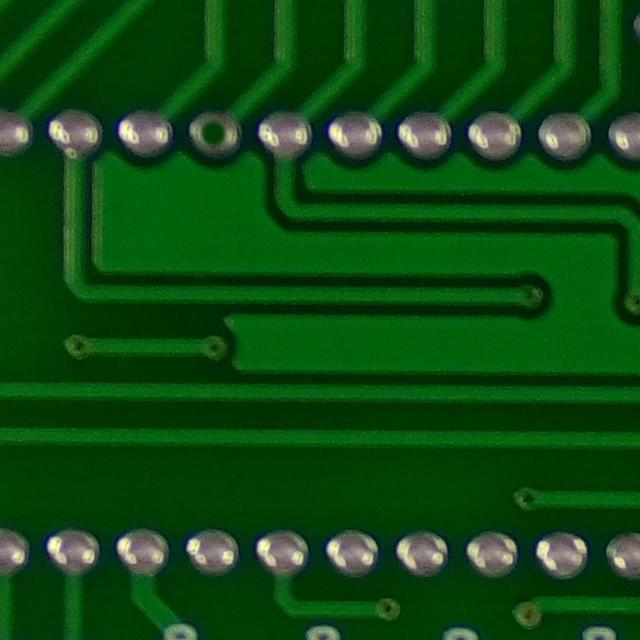missing_hole: (184, 105, 245, 157)
